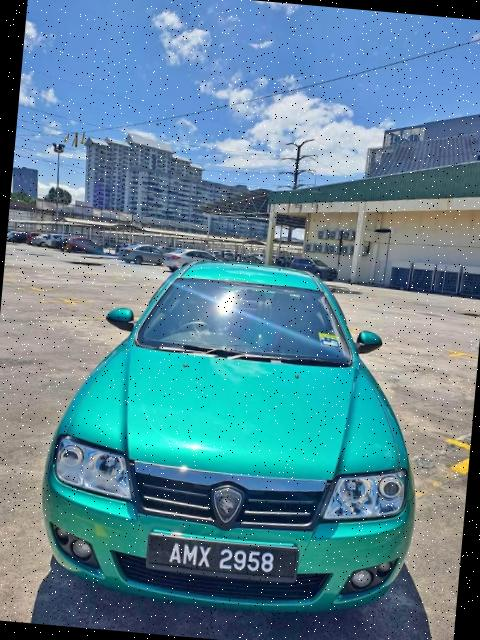License_Plate: (146, 532, 301, 583)
car: (36, 247, 431, 623)
